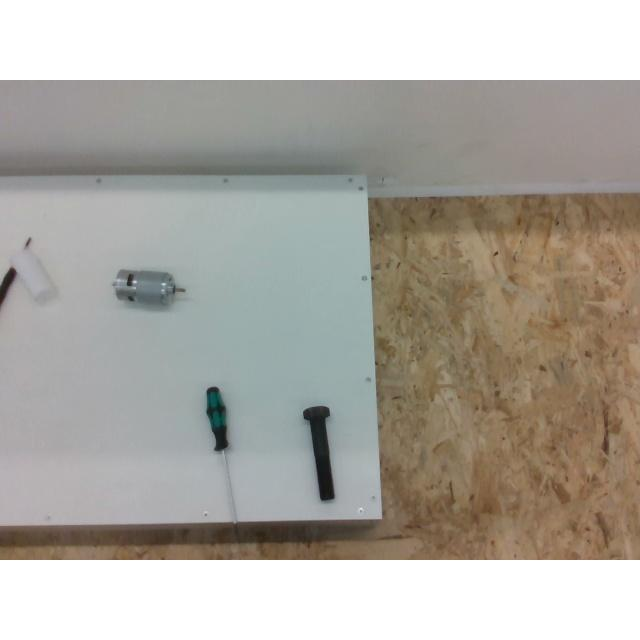M20_100: (302, 404, 334, 500)
Motor2: (114, 268, 186, 304)
Screwdriver: (206, 387, 238, 525)
Spacer: (11, 244, 57, 304)
